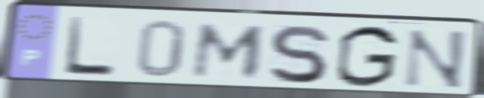0: (133, 18, 188, 81)
G: (333, 23, 402, 90)
L: (62, 14, 118, 79)
M: (188, 21, 271, 80)
N: (400, 28, 470, 91)
S: (266, 23, 330, 86)
